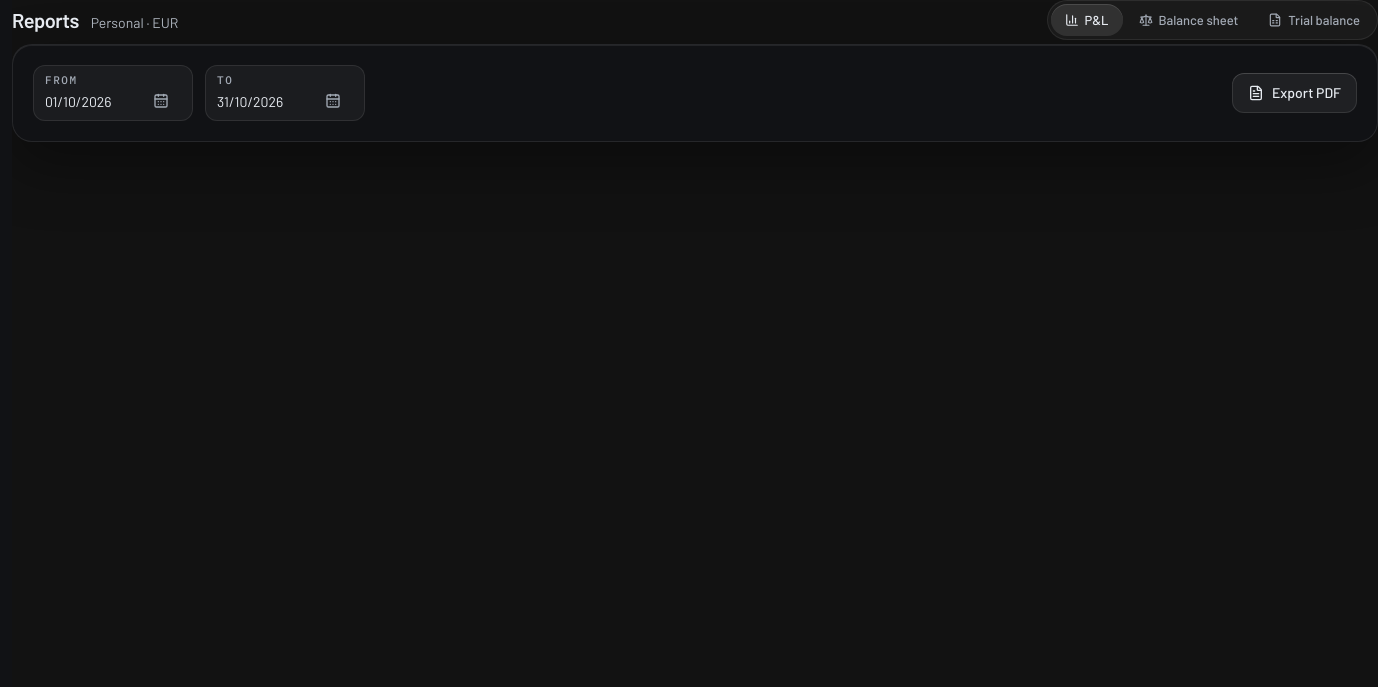
Scenario: ReportsPage historical dates › a late failure from the previous window does not overlay the new statement
This screenshot has width=1378, height=687.
Replace the text in the field named "Report from date" with "01/01/2025" at [113, 101], box x1=45 y1=89 x2=181 y2=113
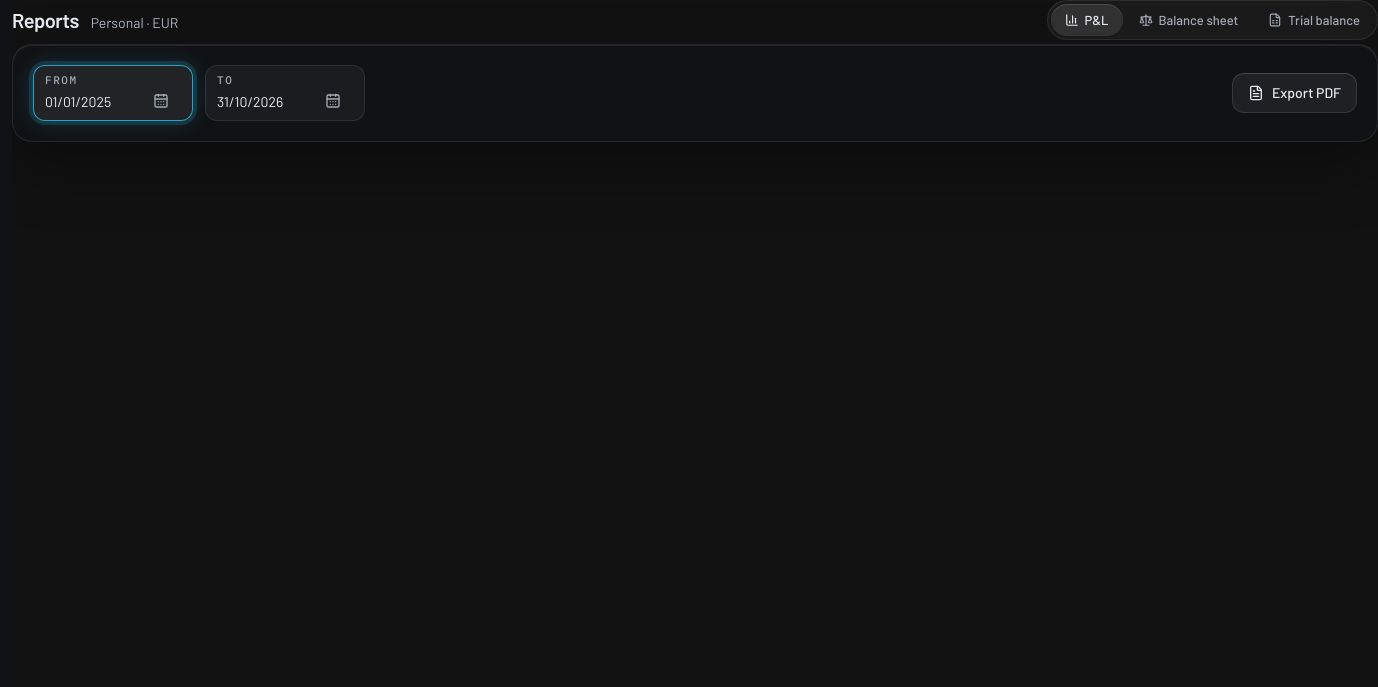
Press Tab
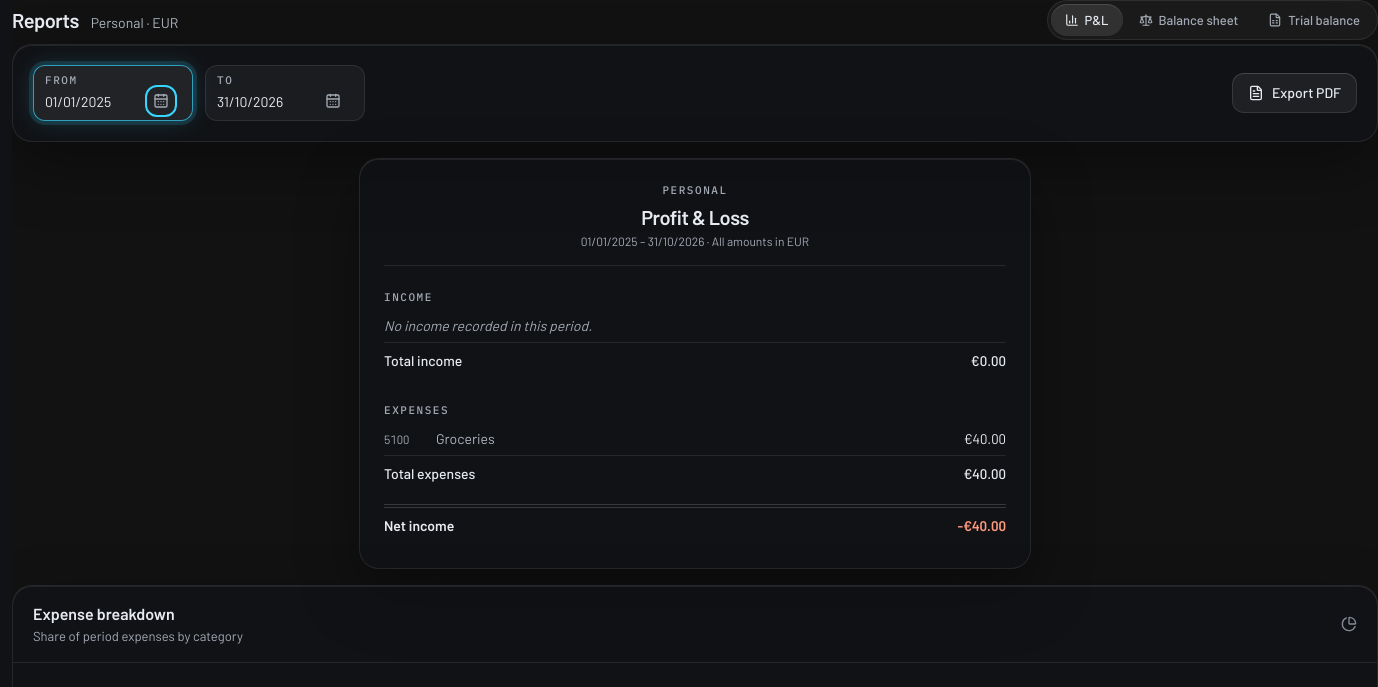
Expected: the text "Groceries" next to "5100" is shown, x1=436 y1=430 x2=495 y2=447
